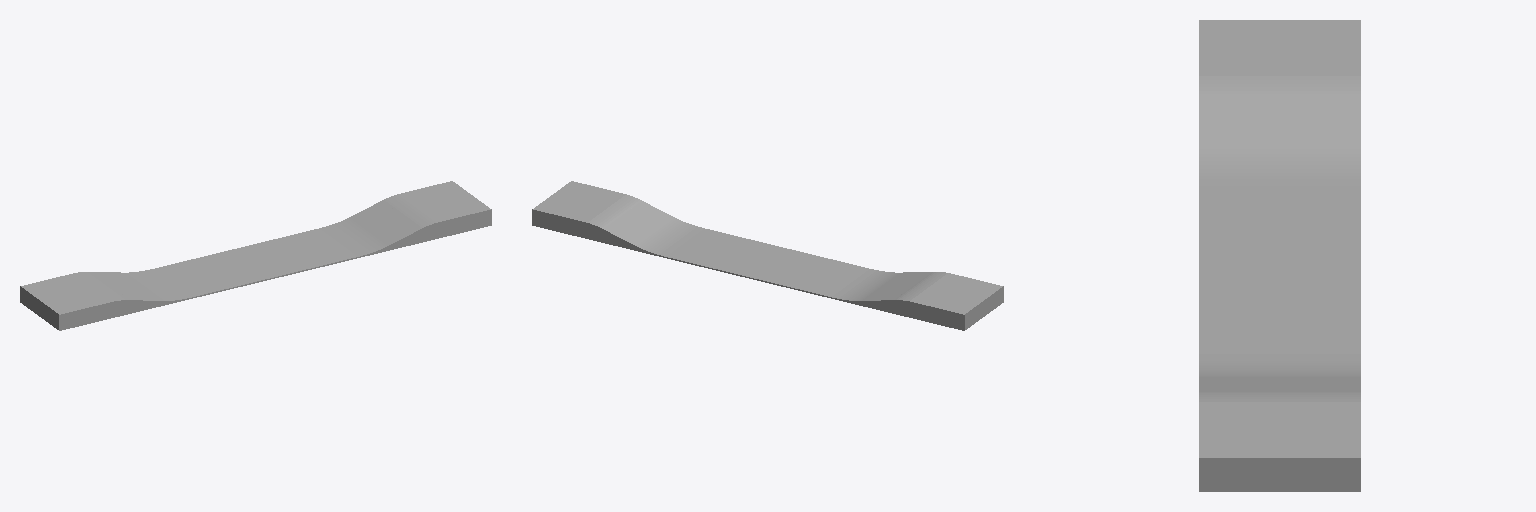
robot.urdf — tray:
<robot name="tray">
  <link name="tray_base_link">
    <contact>
      <lateral_friction value="0.2"/>
      <rolling_friction value="0.001"/>
      <contact_cfm value="0.0"/>
      <contact_erp value="1.0"/>
    </contact>
    <inertial>
      <origin rpy="0 0 0" xyz="0 0 0"/>
      <mass value="0"/>
      <inertia ixx="0" ixy="0" ixz="0" iyy="0" iyz="0" izz="0"/>
    </inertial>
    <visual>
      <origin rpy="0 0 0" xyz="0 0 0"/>
      <geometry>
        <mesh filename="table.obj" scale="0.02 0.01 0.01"/>
      </geometry>
      <material name="tray_material">
        <color rgba="0.7 0.7 0.7 1"/>
      </material>
    </visual>
    <collision>
      <origin rpy="0 0 0" xyz="0 0 0"/>
      <geometry>
        <mesh filename="table.obj" scale="0.02 0.01 0.01"/>
      </geometry>
    </collision>
  </link>
</robot>

--- Facts derived from the render (not from the file) ---
3 views of the same robot in one strip: view 1: azimuth 30°, elevation 25°; view 2: azimuth 150°, elevation 25°; view 3: azimuth 270°, elevation 25° (orthographic).
Model tray with 1 links and 0 joints (none), rooted at tray_base_link, posed every joint at zero.
Links seen in each view (by area): view 1: tray_base_link; view 2: tray_base_link; view 3: tray_base_link.
Link boxes in pixels (<box>): tray_base_link: <box>20,181,491,330</box>; tray_base_link: <box>532,181,1003,330</box>; tray_base_link: <box>1199,20,1360,491</box>.
Bounding box of the posed robot: 3.2 × 0.5 × 0.116 m (x, y, z).
1 mesh visuals loaded from 1 distinct referenced files (1 OBJ).
